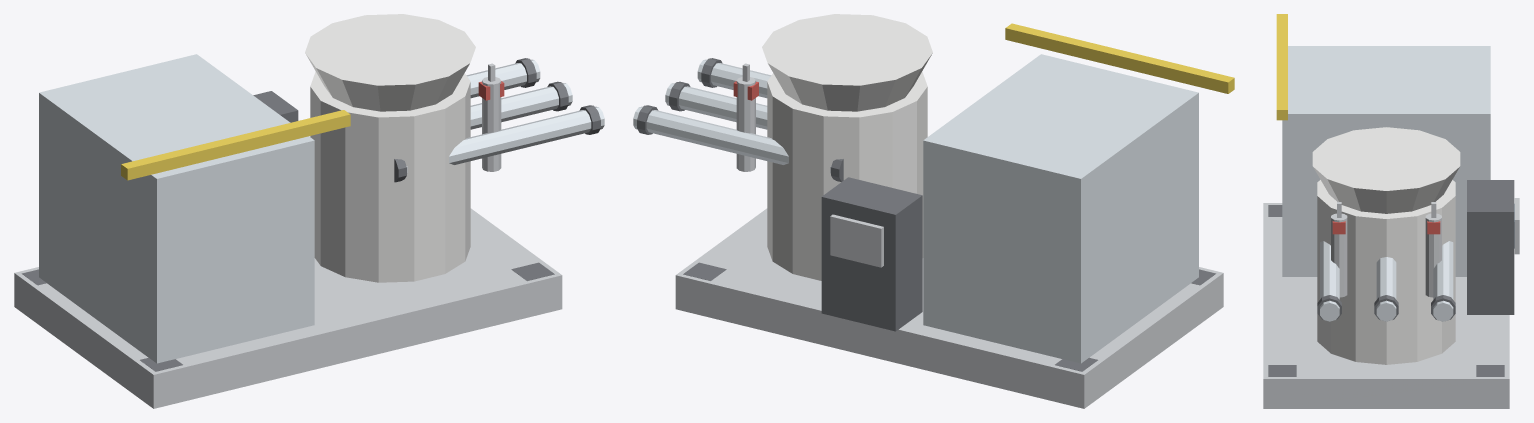
File: rocket-launch-pad-and-gantry-chilldown-skid-ccf79660__38196.glb
The picture shows the model from 3 angles, left to right: view 1: azimuth 30°, elevation 25°; view 2: azimuth 150°, elevation 25°; view 3: azimuth 270°, elevation 25°; orthographic projection. The views are drawn at different scales.
Visible parts, largest first — view 1: chilldown-skid; view 2: chilldown-skid; view 3: chilldown-skid.
Boxes of the visible parts, x1,y1,x2,y2 form: chilldown-skid: (14,14,604,408); chilldown-skid: (633,14,1234,408); chilldown-skid: (1263,14,1519,408).
Size of the model in its own units: 5.4 by 2.46 by 2.71.
